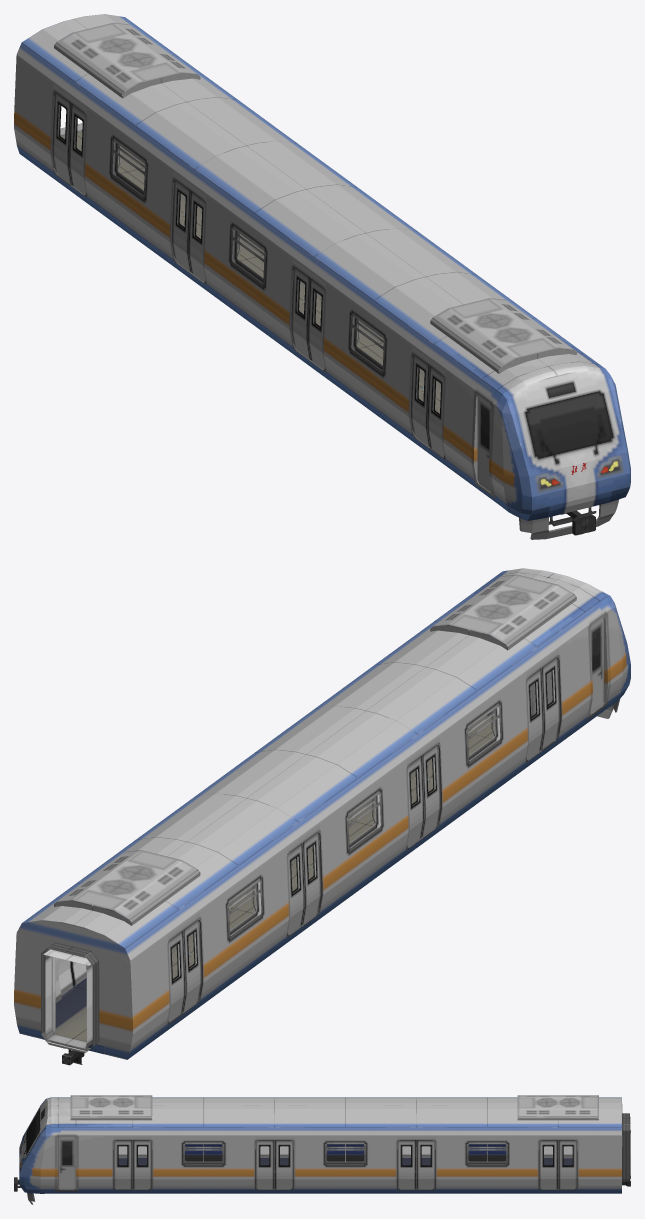
Rendered from dkz_5g_h407.obj.
3 views of the same model, one above another, from view 1: azimuth 30°, elevation 25°; view 2: azimuth 150°, elevation 25°; view 3: azimuth 270°, elevation 25° (orthographic). The views are drawn at different scales.
Visible parts, largest first — view 1: window_exterior, head_exterior, end_exterior, door_right_negative_exterior, door_right_positive_exterior, window; view 2: window_exterior, end_exterior, head_exterior, door_right_positive_exterior, door_right_negative_exterior, window, end, head; view 3: window_exterior, head_exterior, end_exterior, door_left_negative_exterior, door_left_positive_exterior, window, door_right_negative, door_right_positive.
Boxes of the visible parts, x1,y1,x2,y2 form: window_exterior: (54, 22, 576, 454); head_exterior: (428, 317, 630, 539); end_exterior: (14, 14, 177, 192); door_right_negative_exterior: (52, 92, 430, 447); door_right_positive_exterior: (69, 103, 444, 457); window: (112, 125, 440, 413); window_exterior: (54, 574, 576, 1020); end_exterior: (14, 883, 184, 1065); head_exterior: (434, 568, 630, 757); door_right_positive_exterior: (182, 657, 560, 1012); door_right_negative_exterior: (168, 668, 543, 1022); window: (75, 690, 500, 989); end: (43, 949, 92, 1051); head: (467, 671, 552, 738); window_exterior: (70, 1095, 598, 1193); head_exterior: (14, 1097, 132, 1204); end_exterior: (558, 1097, 630, 1193); door_left_negative_exterior: (132, 1140, 577, 1189); door_left_positive_exterior: (113, 1140, 558, 1189); window: (138, 1127, 552, 1165); door_right_negative: (138, 1140, 572, 1157); door_right_positive: (118, 1146, 552, 1157).
Bounding box in the file's own units: 2.88 × 3.56 × 21.75.
4 materials, 4 textured.
